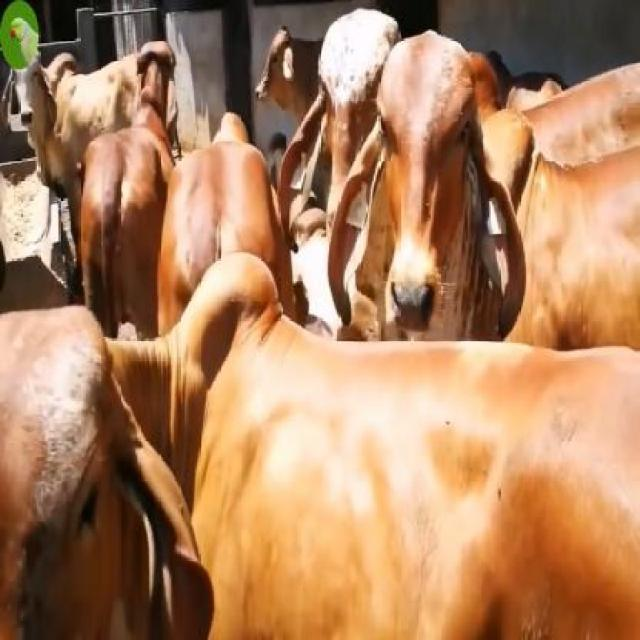Cow: (351, 23, 520, 335)
